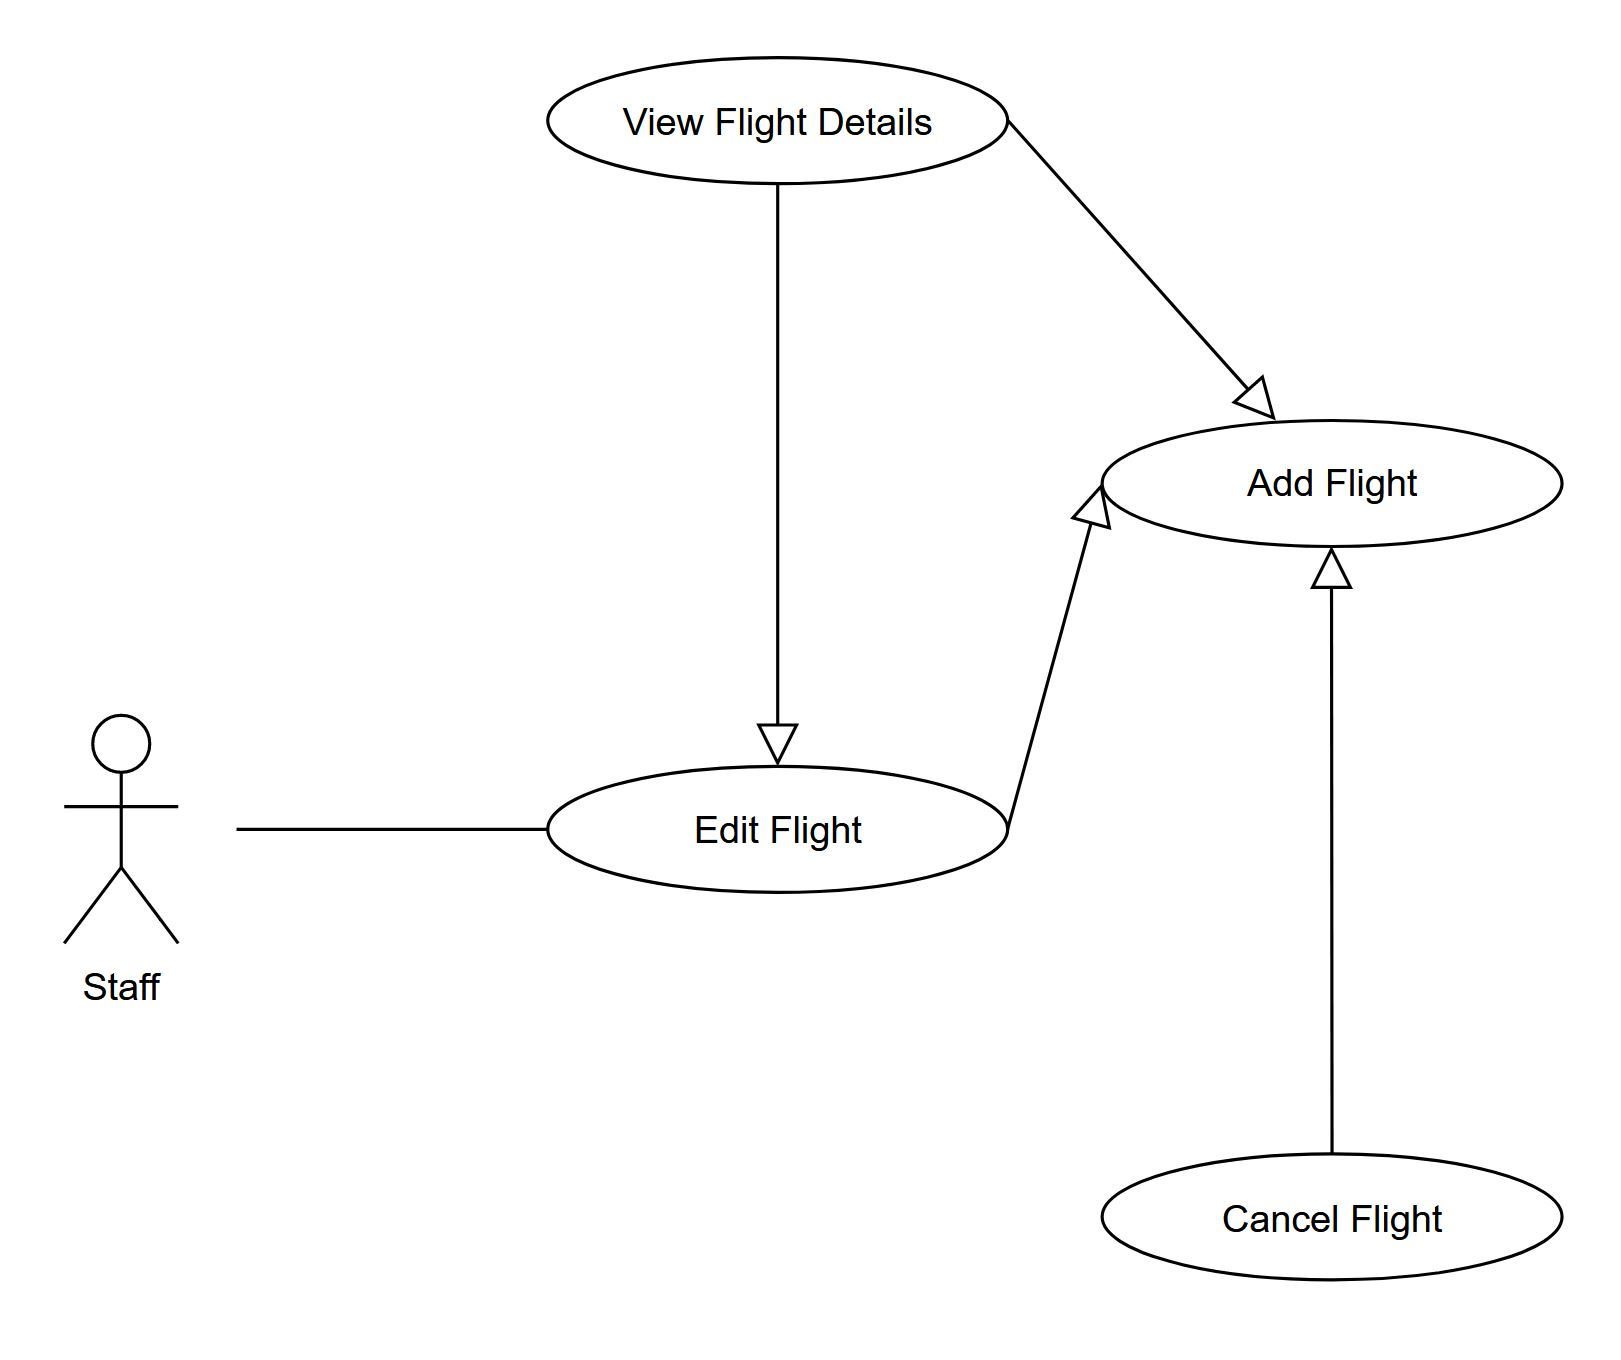actor: (50, 711, 200, 954)
association: (231, 805, 552, 866)
ge: (1010, 119, 1283, 424)
generalization: (1010, 488, 1114, 828), (1303, 545, 1355, 1150), (755, 188, 804, 761)
text: (623, 97, 944, 144), (1216, 1193, 1456, 1253), (685, 800, 868, 859), (1243, 465, 1420, 511), (42, 969, 182, 1012)
use_case: (543, 54, 1007, 188), (1100, 417, 1564, 550), (548, 762, 1007, 895), (1098, 1154, 1566, 1282)
